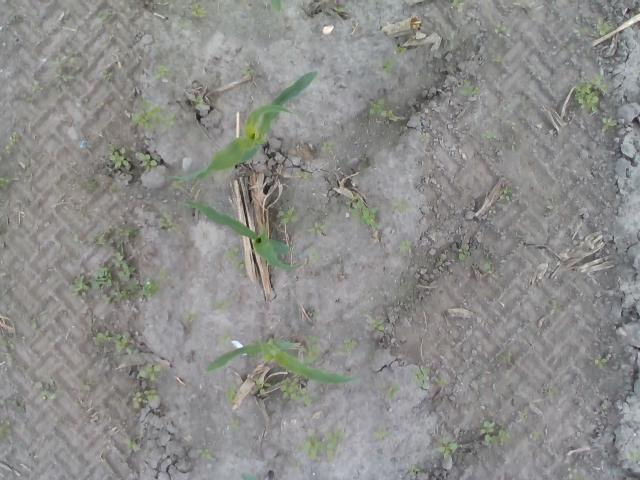Maize: (166, 68, 320, 184), (178, 200, 296, 274), (204, 333, 360, 386), (269, 0, 283, 13)
Weeds: (68, 250, 160, 304), (570, 64, 612, 115), (124, 95, 177, 130), (302, 428, 348, 464), (345, 190, 383, 230), (280, 375, 314, 407), (94, 330, 134, 355), (479, 420, 513, 445), (223, 244, 246, 280), (410, 366, 435, 393), (366, 96, 394, 120), (106, 142, 130, 168), (130, 389, 160, 408), (114, 224, 137, 248), (0, 132, 22, 156), (304, 334, 322, 363), (134, 151, 160, 171), (592, 16, 618, 36), (0, 334, 15, 368), (455, 77, 481, 96), (437, 436, 459, 458), (158, 208, 178, 232), (274, 206, 300, 224), (138, 363, 162, 382), (32, 382, 56, 400), (54, 67, 80, 83), (542, 193, 560, 216), (304, 221, 328, 238), (252, 378, 274, 396), (192, 447, 218, 462), (379, 55, 397, 75), (222, 382, 238, 404), (190, 0, 208, 18), (391, 196, 408, 214), (94, 7, 112, 24), (216, 329, 232, 348), (153, 64, 170, 81), (479, 257, 496, 274), (372, 426, 392, 440), (405, 463, 425, 477), (0, 174, 15, 192), (600, 117, 618, 132), (12, 398, 26, 417), (367, 319, 387, 332), (547, 300, 562, 317), (386, 383, 401, 400), (307, 246, 322, 263), (493, 18, 511, 32), (190, 94, 205, 110), (478, 129, 498, 141), (392, 39, 407, 55), (334, 3, 354, 15), (239, 66, 256, 80), (458, 239, 470, 258), (0, 421, 12, 440), (95, 230, 108, 247), (306, 307, 321, 321), (593, 353, 607, 368), (499, 187, 514, 201), (95, 99, 114, 110), (320, 140, 336, 153), (46, 55, 64, 66), (399, 239, 413, 253), (496, 350, 512, 362), (448, 0, 464, 12), (518, 93, 528, 112), (342, 336, 353, 353), (490, 52, 504, 65), (510, 134, 520, 152), (168, 180, 186, 190), (628, 449, 640, 464), (159, 265, 170, 281), (567, 33, 577, 50), (446, 31, 456, 48), (228, 417, 241, 430), (182, 311, 200, 320), (31, 78, 41, 94), (88, 176, 98, 192), (294, 171, 310, 181), (214, 302, 227, 314), (546, 385, 558, 398), (419, 132, 432, 144), (528, 430, 542, 441), (239, 472, 257, 480), (566, 466, 576, 480), (79, 384, 96, 392), (22, 92, 34, 103), (506, 120, 518, 131), (178, 20, 190, 30), (548, 0, 556, 15), (72, 232, 82, 243), (127, 440, 138, 450), (101, 72, 113, 81), (578, 26, 590, 34), (487, 206, 496, 216), (292, 462, 300, 472), (31, 318, 38, 329), (437, 378, 445, 387), (8, 15, 18, 22), (520, 414, 528, 422), (416, 72, 422, 80), (190, 188, 198, 192)
